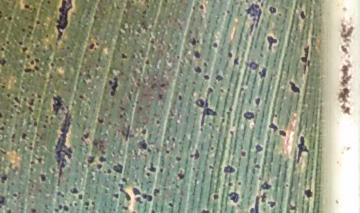tarspot: (51, 110, 75, 179), (193, 84, 220, 131), (55, 1, 75, 47), (244, 2, 262, 43), (294, 135, 310, 164), (119, 122, 136, 147), (300, 42, 312, 77), (117, 177, 133, 202), (106, 73, 121, 99), (50, 92, 63, 117), (93, 135, 109, 154), (134, 138, 152, 154), (264, 32, 278, 52), (288, 79, 303, 96), (81, 127, 90, 154), (248, 195, 262, 212), (144, 158, 158, 173), (27, 92, 35, 117), (11, 95, 24, 110), (52, 203, 71, 213), (228, 190, 241, 204), (38, 170, 51, 184), (222, 163, 237, 175), (33, 155, 48, 167), (86, 40, 102, 51), (253, 142, 266, 155), (247, 60, 259, 73), (305, 187, 316, 201), (189, 148, 200, 162), (253, 96, 265, 108), (142, 191, 154, 203), (1, 173, 13, 185), (83, 199, 96, 210), (268, 7, 282, 17), (176, 166, 186, 180), (1, 193, 8, 213), (243, 109, 255, 120), (267, 199, 279, 210), (197, 2, 209, 13), (266, 122, 279, 132), (232, 54, 242, 67), (131, 184, 141, 197), (138, 7, 148, 20), (259, 66, 268, 80), (198, 204, 212, 213), (209, 39, 220, 50), (214, 72, 225, 83), (261, 182, 273, 192), (210, 192, 222, 202), (252, 162, 262, 174), (193, 49, 202, 62), (287, 204, 300, 213), (112, 163, 123, 173), (238, 147, 248, 158), (47, 60, 58, 70), (86, 154, 94, 167), (299, 10, 309, 20), (194, 64, 204, 74), (96, 114, 106, 124), (189, 36, 198, 47), (276, 130, 288, 138), (10, 132, 18, 144), (27, 206, 40, 213), (119, 52, 129, 61), (157, 91, 165, 102), (208, 143, 216, 154), (154, 116, 161, 128), (201, 72, 210, 81), (226, 179, 235, 188), (56, 190, 65, 199), (112, 194, 122, 202), (70, 185, 78, 195), (144, 58, 152, 68), (34, 19, 44, 27), (140, 126, 148, 136), (42, 115, 50, 125), (177, 92, 184, 103), (1, 57, 8, 68), (150, 82, 158, 91), (20, 132, 29, 140), (76, 192, 84, 201), (1, 147, 8, 157), (99, 155, 107, 163), (20, 46, 28, 54), (235, 180, 243, 188), (207, 162, 215, 170), (27, 23, 35, 31), (17, 39, 25, 47), (160, 81, 167, 90), (23, 3, 32, 10), (11, 190, 20, 197), (24, 67, 34, 73), (71, 201, 81, 207), (167, 201, 175, 208), (169, 134, 176, 142), (174, 155, 182, 162), (118, 113, 126, 120), (228, 130, 235, 138), (1, 83, 9, 90), (41, 123, 49, 130), (137, 105, 145, 112), (106, 166, 112, 175), (165, 147, 171, 156), (149, 207, 158, 213), (20, 26, 26, 35), (32, 120, 38, 129), (284, 180, 289, 190), (153, 188, 160, 195), (27, 30, 34, 37), (7, 15, 14, 22), (227, 50, 233, 58), (25, 53, 33, 59), (5, 39, 13, 45), (6, 91, 12, 99), (158, 166, 164, 173), (30, 159, 36, 166), (28, 166, 35, 172), (34, 65, 38, 75), (30, 60, 35, 68), (1, 110, 4, 122), (34, 58, 39, 65), (1, 124, 6, 131), (7, 209, 14, 213), (95, 164, 102, 168)
